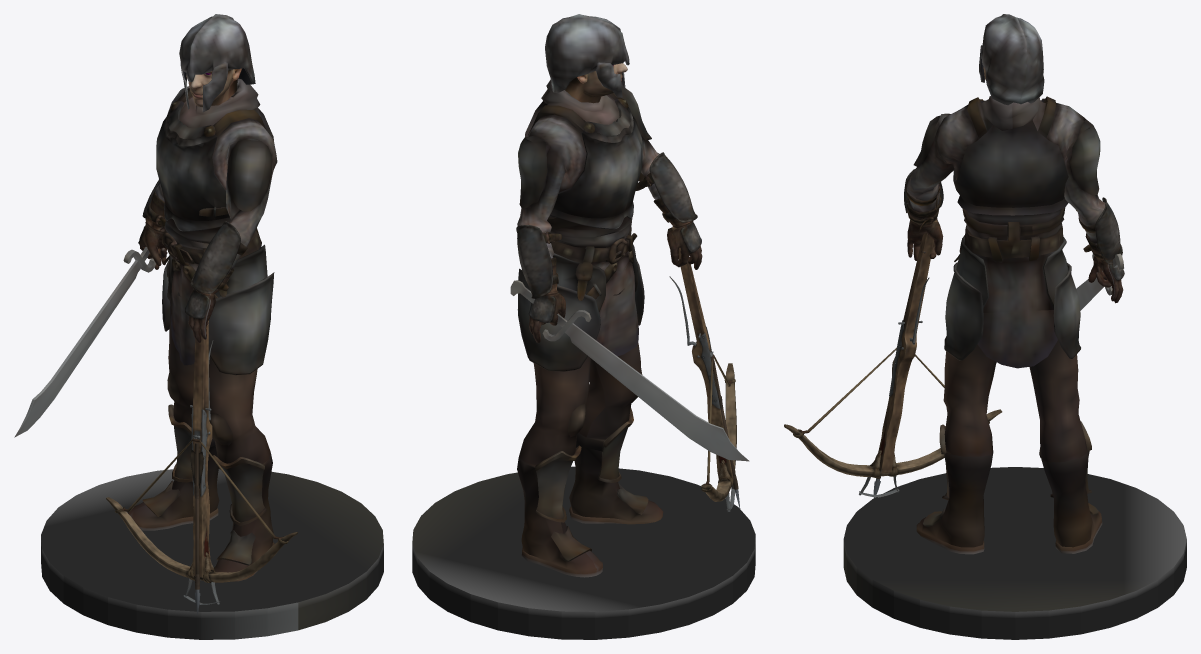
3 views of the same model, side by side, from view 1: azimuth 30°, elevation 25°; view 2: azimuth 150°, elevation 25°; view 3: azimuth 270°, elevation 25° (orthographic).
Visible parts, largest first — view 1: scimitar3.smd; view 2: scimitar3.smd; view 3: scimitar3.smd.
Boxes of the visible parts, left/top/right/bottom form: scimitar3.smd: left=14, top=14, right=383, bottom=639; scimitar3.smd: left=412, top=14, right=755, bottom=639; scimitar3.smd: left=784, top=14, right=1186, bottom=639.
Bounding box in the file's own units: 1.11 × 1.77 × 1.17.
1 material, 1 textured.
